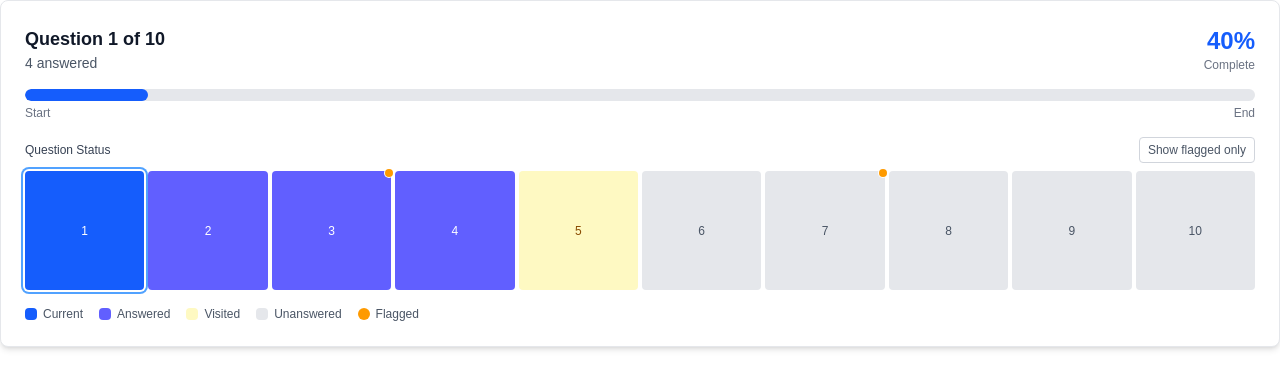
Scenario: QuizProgress › flagged questions › filters the grid to only flagged questions when the filter is on
What coordinates should you click on to do the following:
click the button "Show flagged only"
I would click on:
 (1197, 150)
Its box is [1139,137,1255,163].
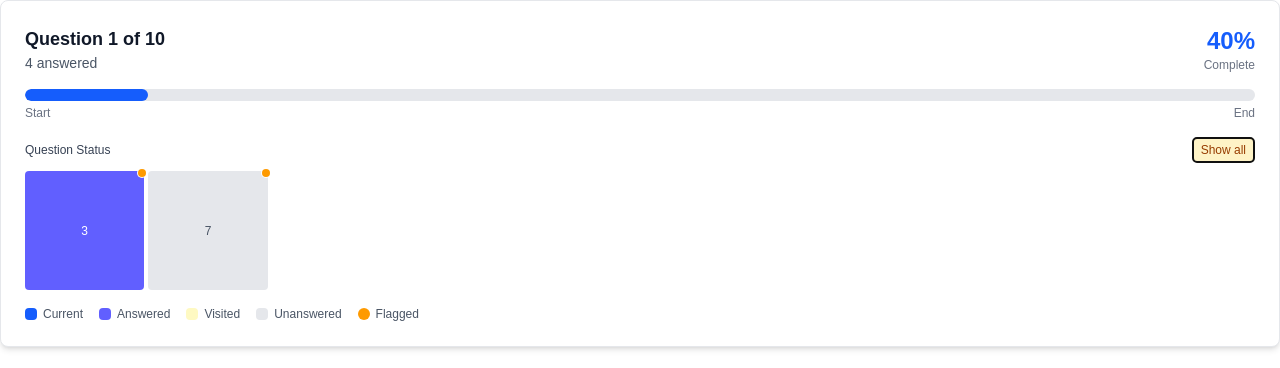
Result: the number of buttons with class "aspect-square" is 2 at [25,171,144,290]; [148,171,268,290]
